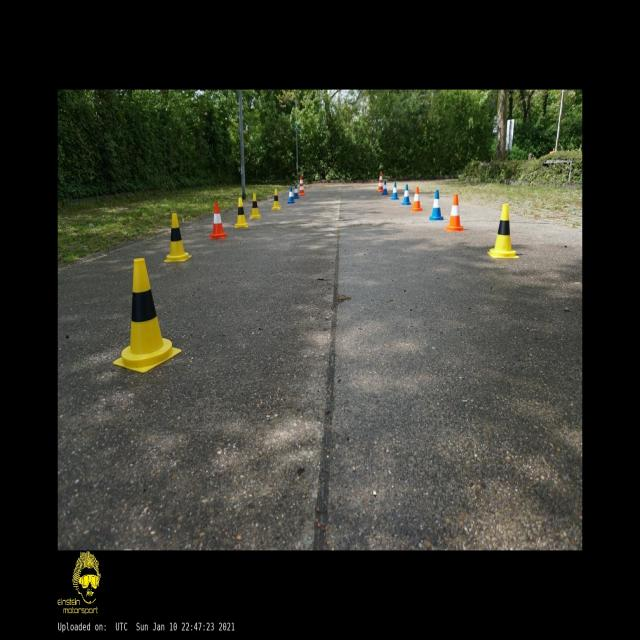blue_cone: (429, 190, 444, 221), (402, 184, 411, 205), (288, 187, 296, 203), (391, 182, 398, 200), (294, 185, 300, 199), (382, 181, 388, 195)
large_orange_cone: (298, 176, 304, 196), (377, 172, 383, 192)
orange_cone: (445, 195, 464, 231), (209, 203, 227, 240), (410, 187, 422, 211)
yellow_cone: (114, 258, 181, 372), (487, 204, 518, 258), (164, 213, 191, 263), (234, 198, 248, 228), (249, 194, 260, 218), (272, 189, 280, 210)
